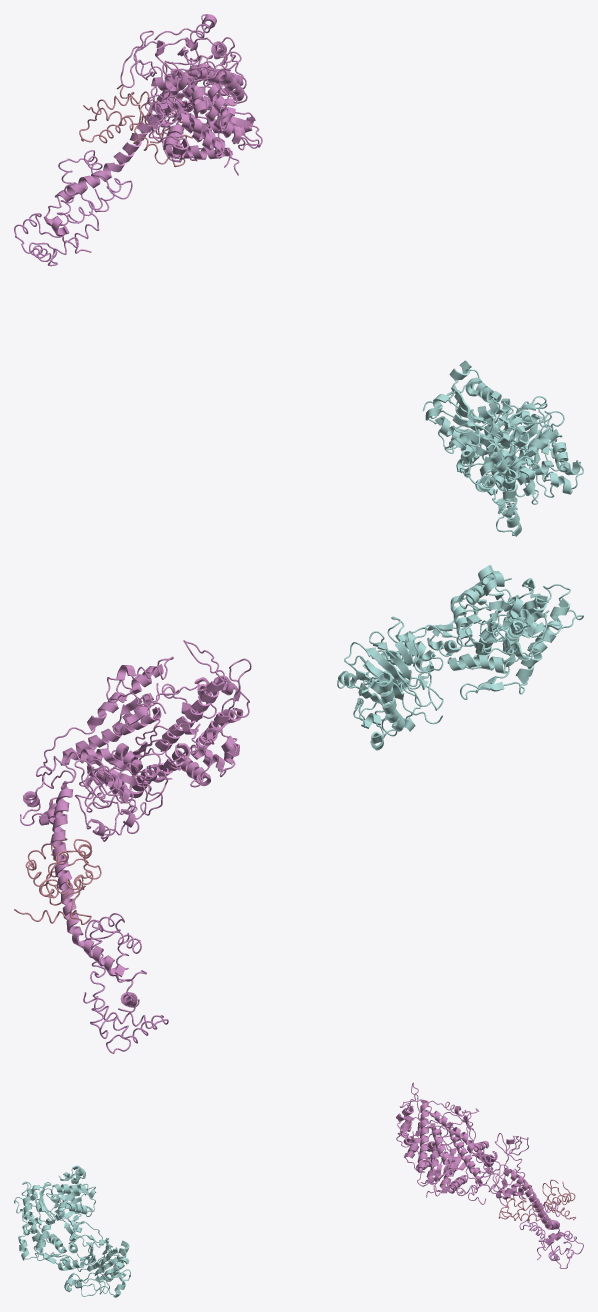
The model's file is actin-myosin-ribbon-meshopt.glb.
3 renders of one model, top to bottom at view 1: azimuth 30°, elevation 25°; view 2: azimuth 150°, elevation 25°; view 3: azimuth 270°, elevation 25°, orthographic. The views are drawn at different scales.
Visible parts, largest first — view 1: 2MYS, 1ATN; view 2: 2MYS, 1ATN; view 3: 2MYS, 1ATN.
Part boxes in pixels (bbox=[...]): 2MYS: bbox=[14, 14, 262, 266]; 1ATN: bbox=[422, 360, 583, 536]; 2MYS: bbox=[14, 640, 251, 1053]; 1ATN: bbox=[337, 565, 583, 750]; 2MYS: bbox=[396, 1082, 583, 1268]; 1ATN: bbox=[14, 1165, 130, 1297].
Bounding box in the file's own units: 0.8494 × 1.28 × 3.57.
